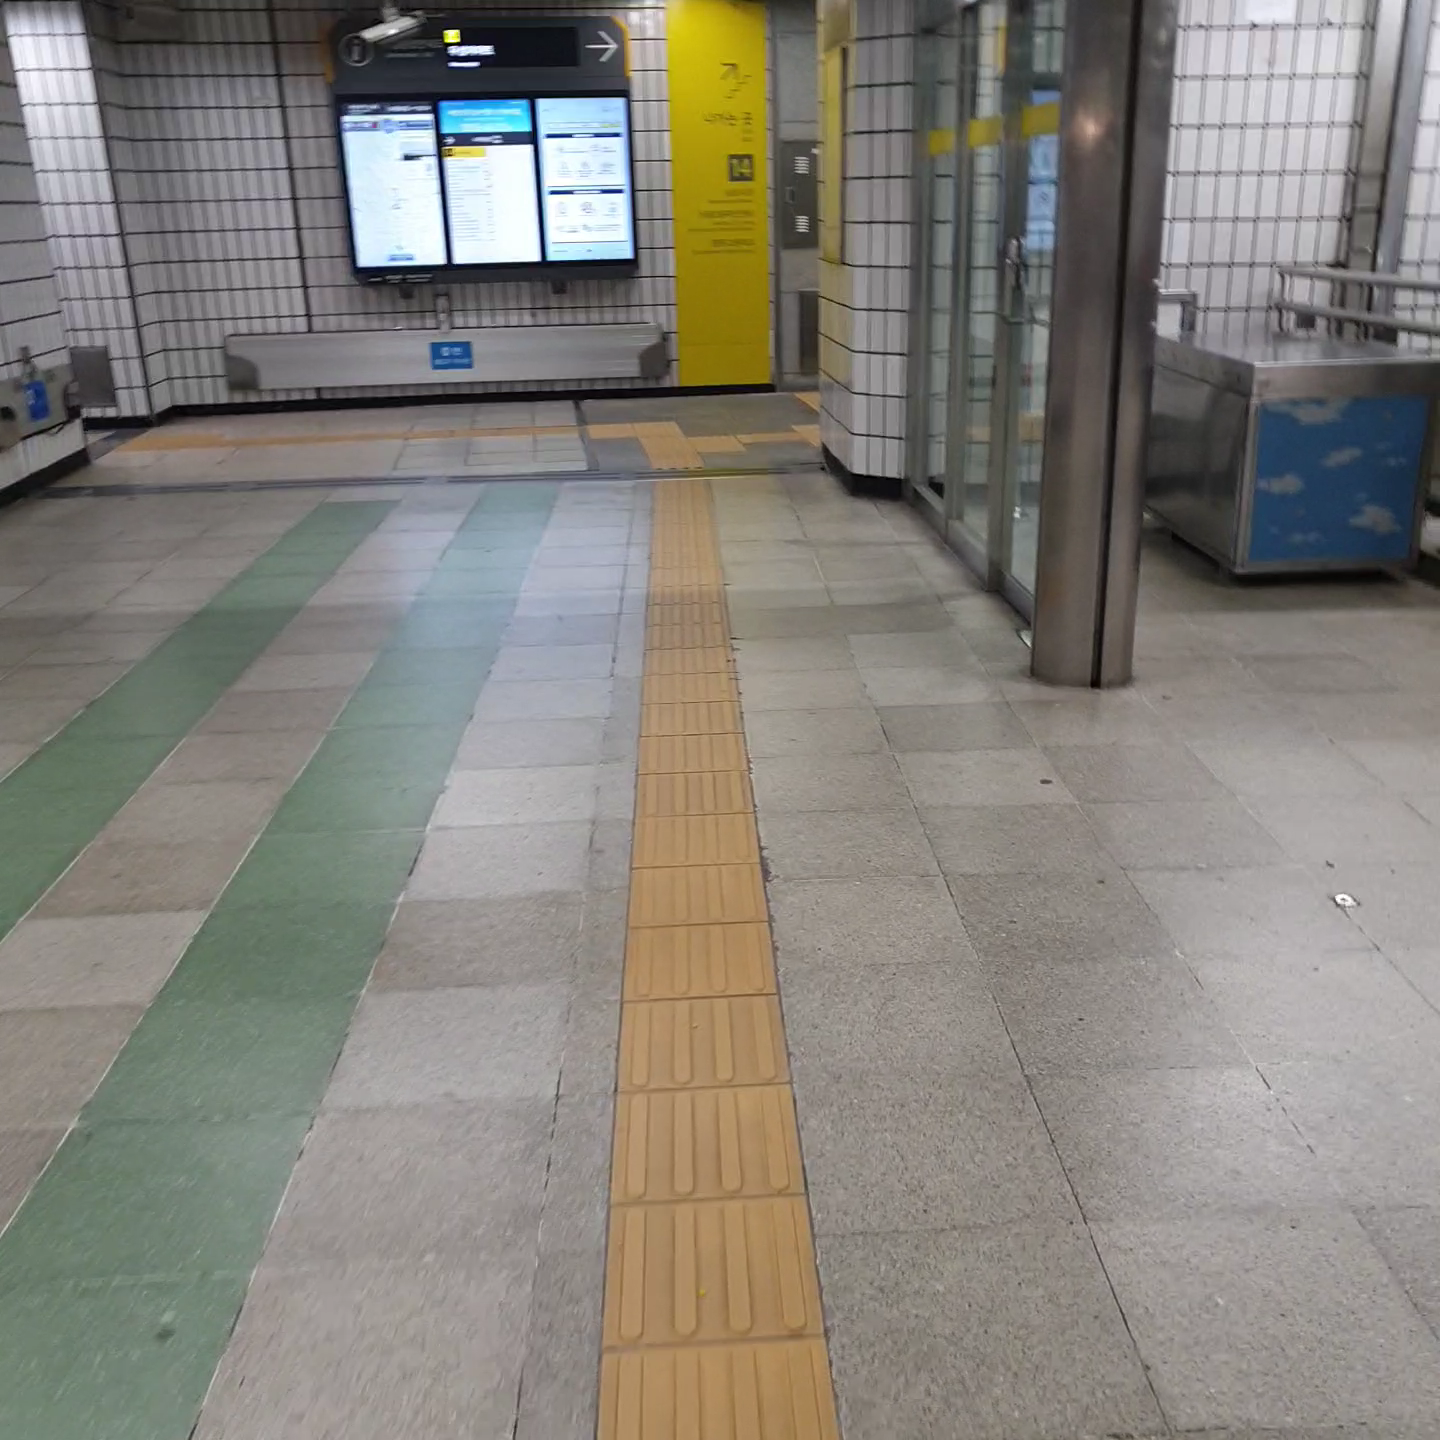line: (604, 1203, 827, 1335), (609, 1093, 810, 1203), (618, 1000, 789, 1097), (621, 927, 777, 1000), (628, 862, 762, 927), (632, 814, 758, 872), (634, 769, 752, 818), (637, 732, 750, 774), (638, 702, 738, 736)
